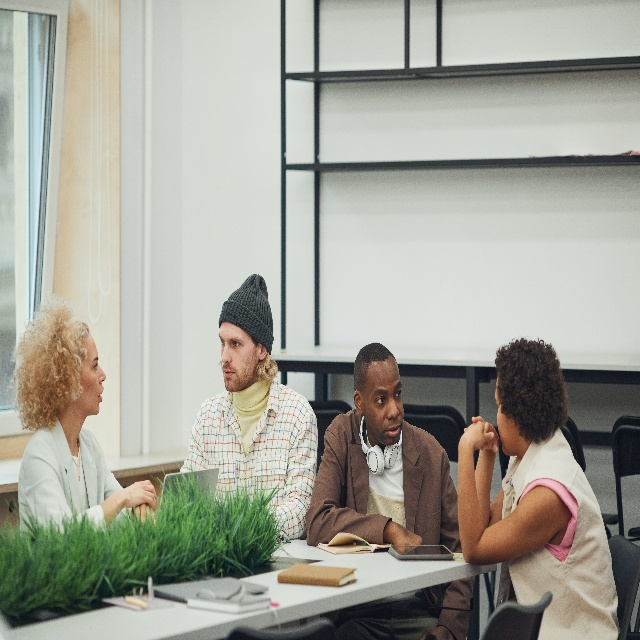Sin_guantes: (471, 415, 499, 454), (124, 479, 157, 511), (460, 421, 494, 451), (389, 520, 423, 545), (418, 625, 454, 640)
